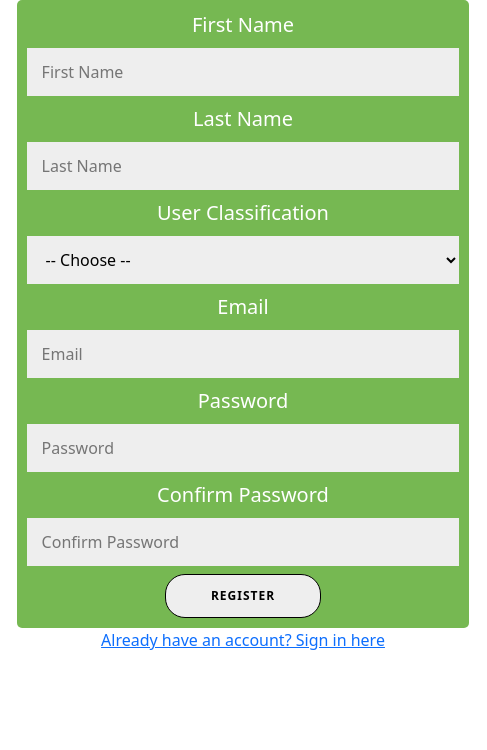
Test: should show error message when password is not accepted (no special character or number)
This screenshot has width=487, height=750.
Type "Test" into the password field labelled "Password" at [243, 448], box [27, 424, 459, 472]
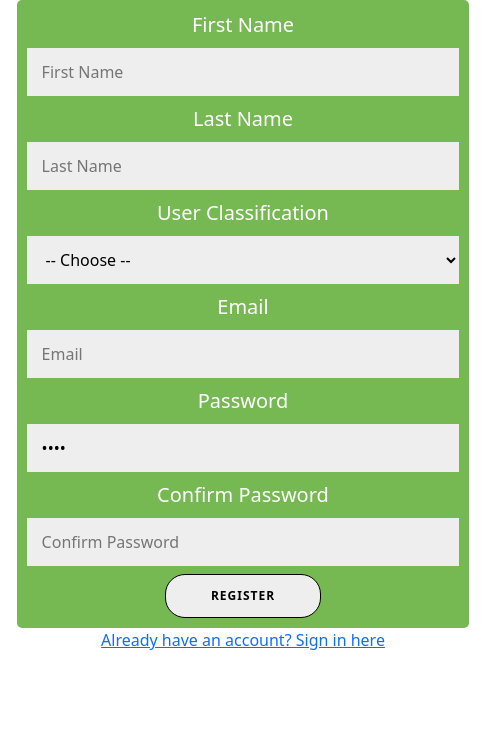
Click the button at [243, 596], box [165, 574, 321, 618]
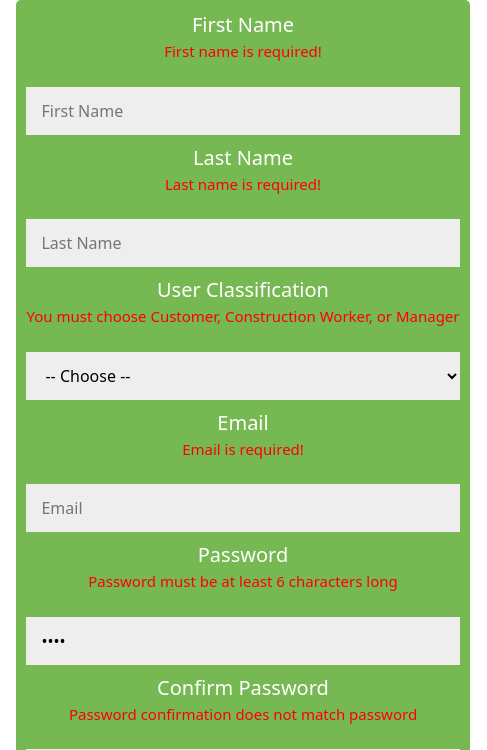
Now the text named "password-error" is shown, box [88, 571, 398, 591]
